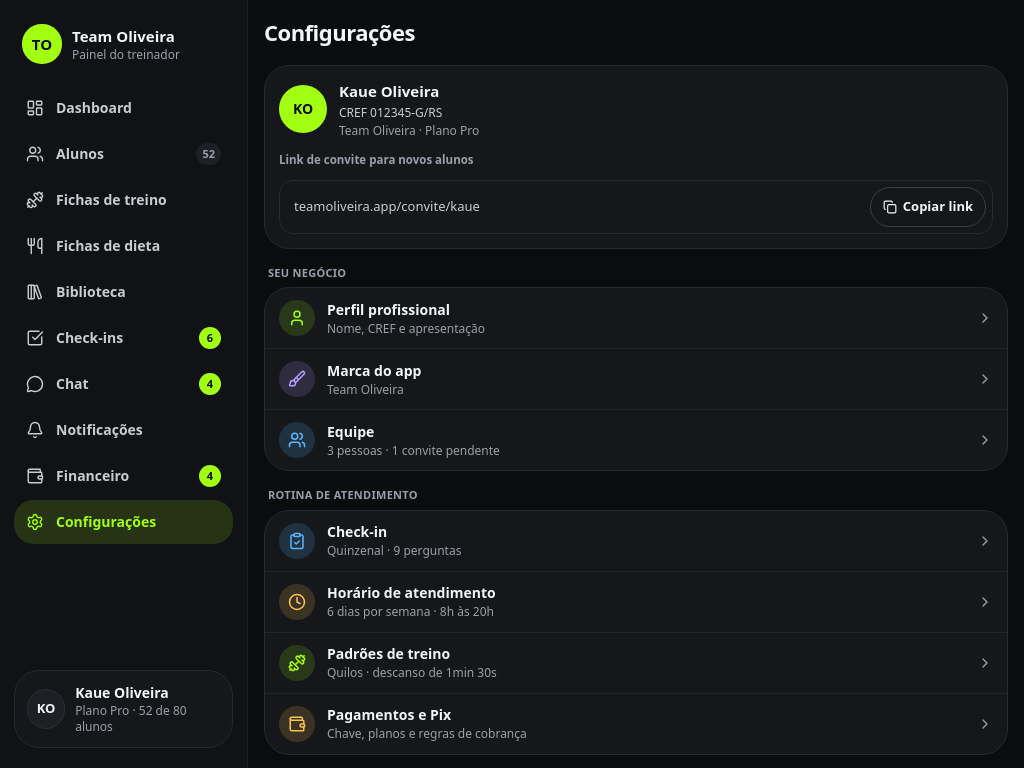
Scenario: Configurações (celular) › lista agrupada; perfil com CREF inválido não salva
Expected: the text "CREF 012345-G/RS" is shown, [339,104,442,120]
Expected: the element "SEU NEGÓCIO" shows "3 pessoas · 1 convite pendente", [265,410,1007,470]
Click the button "Perfil profissional Nome, CREF e apresentação" at [297, 318], box [265,288,1007,348]
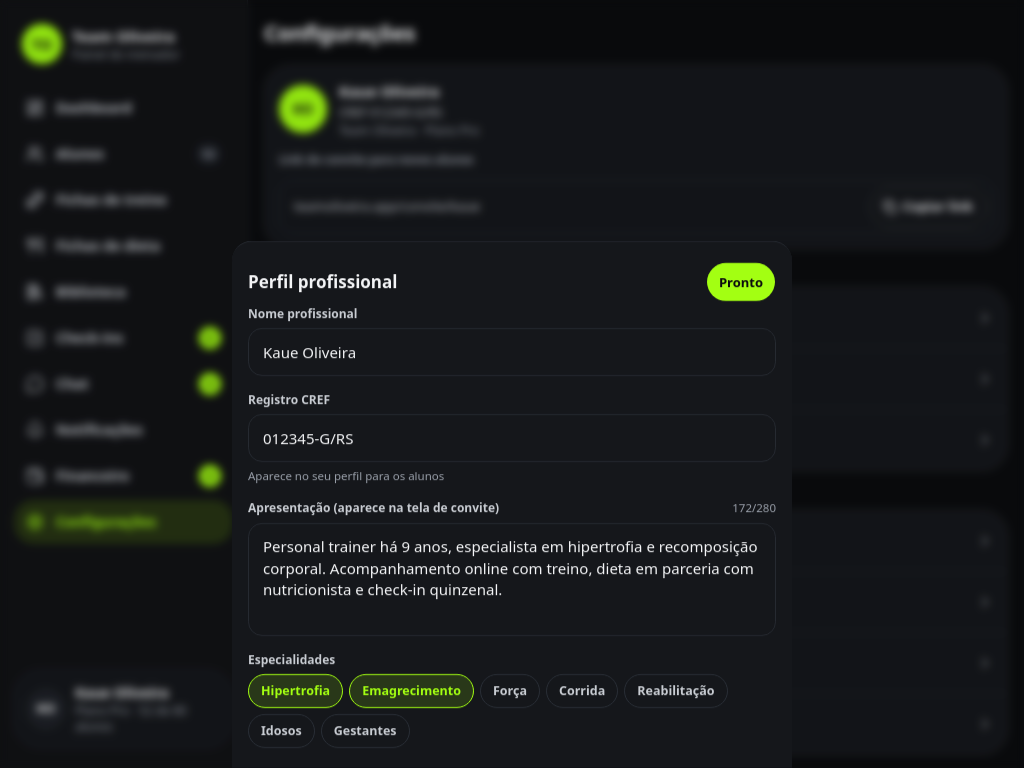
Replace the text in the field labelled "Registro CREF" with "12345-G/RS" at [512, 438], box [248,414,776,462]
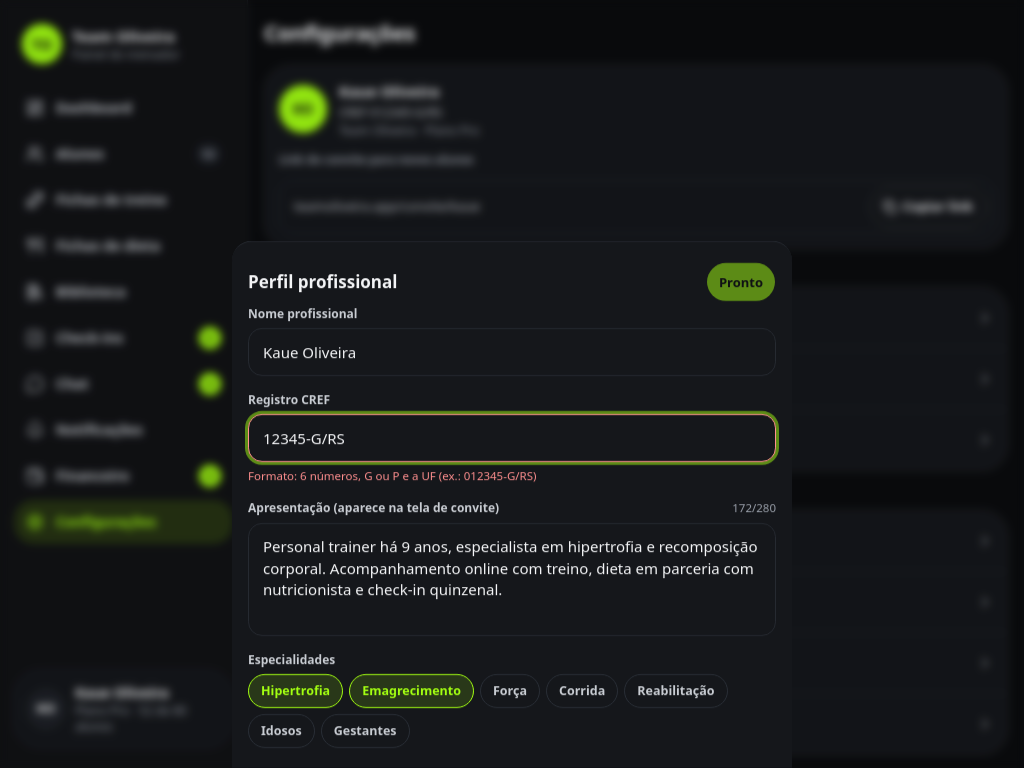
Now the text "Formato: 6 números, G ou P e a UF (ex.: 012345-G/RS)" is shown, box [248,468,536,483]
Now the button "Pronto" is disabled, box [706,262,776,302]
Replace the text in the field labelled "Registro CREF" with "012345-p/sp" at [512, 438], box [248,414,776,462]
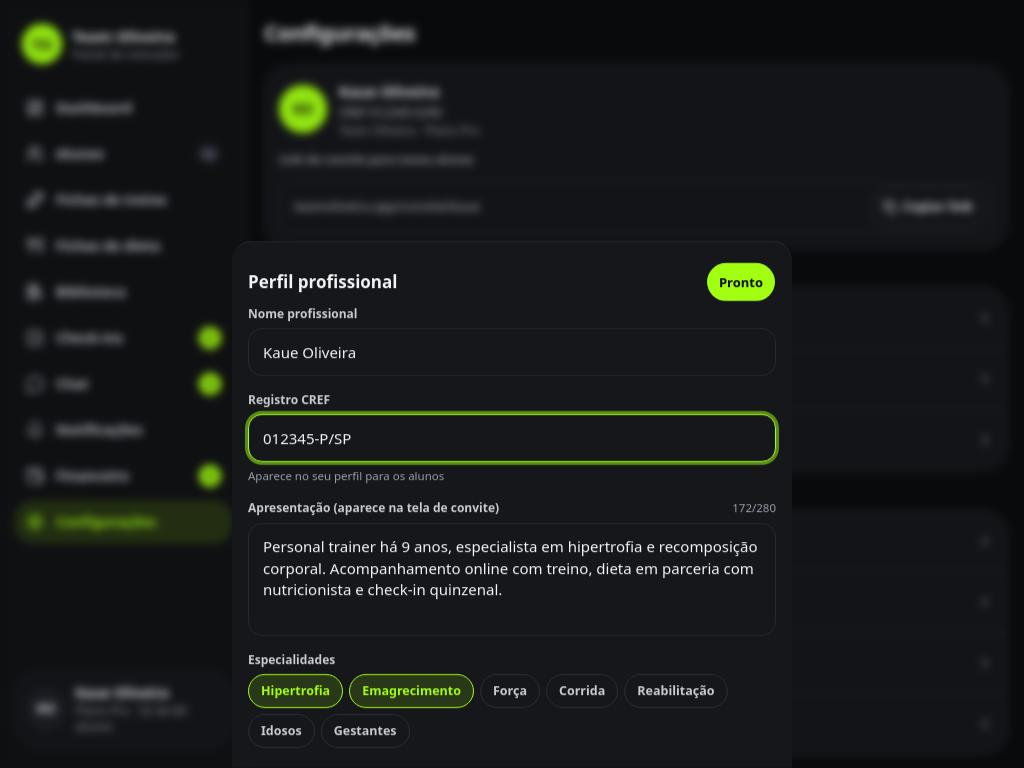
Click the button "Corrida" at [582, 691], box [546,674,618,708]
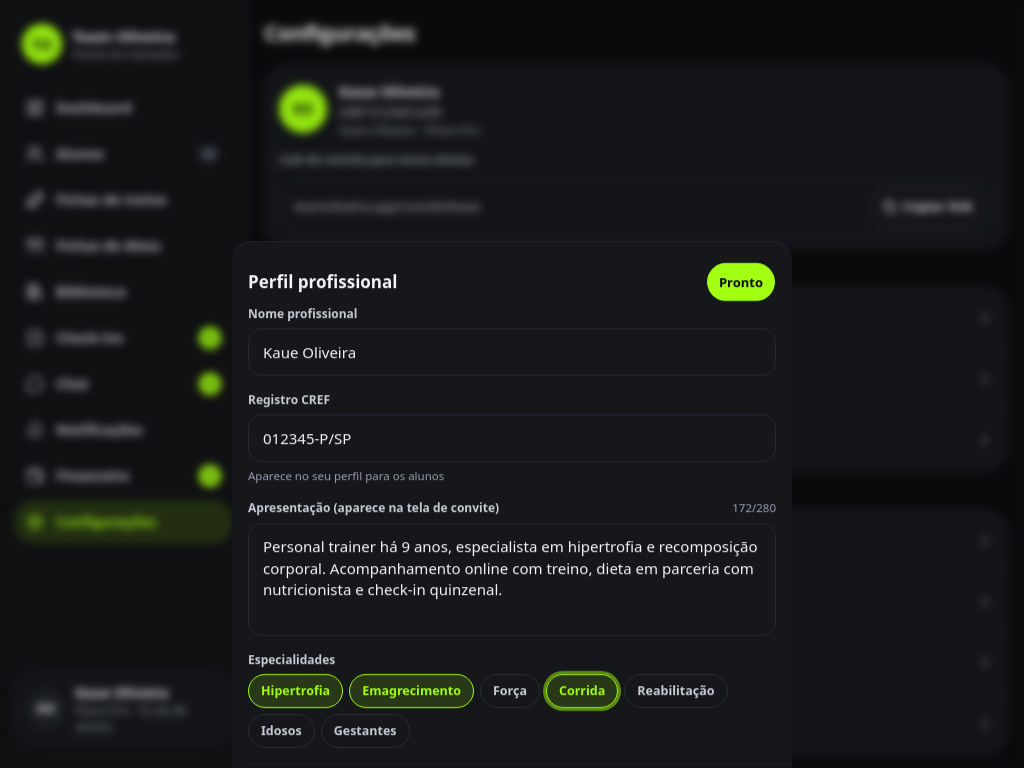
Click the button "Pronto" at [741, 282], box [706,262,776,302]
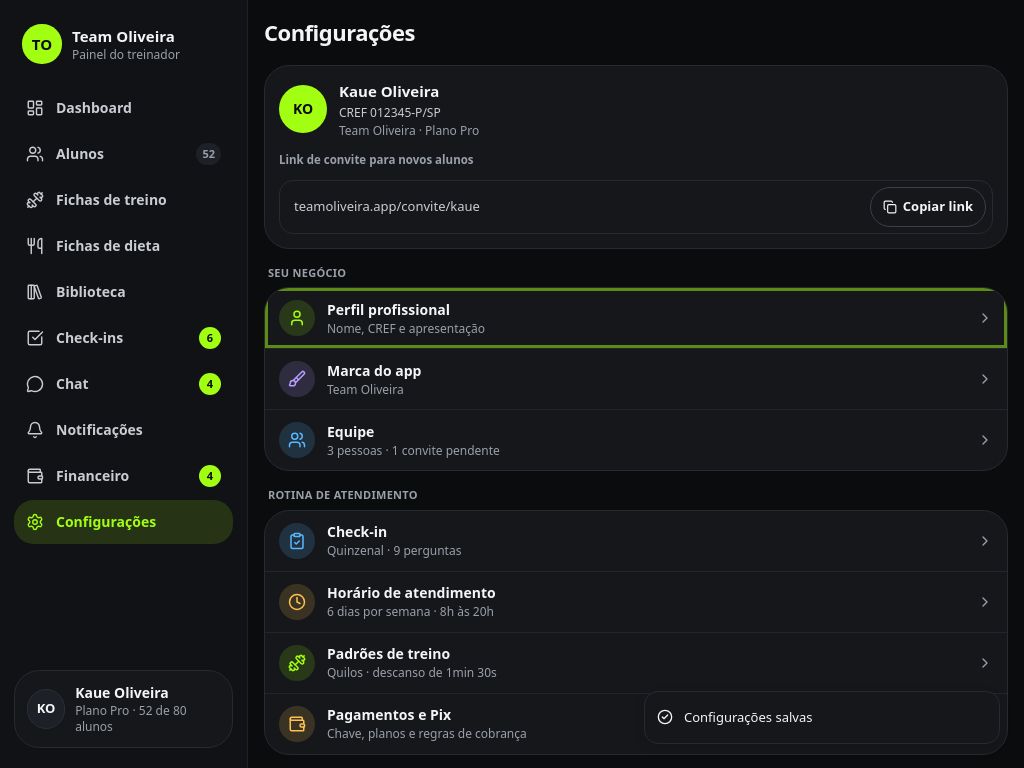
Now the text "Configurações salvas" is shown, box [684,708,812,727]
